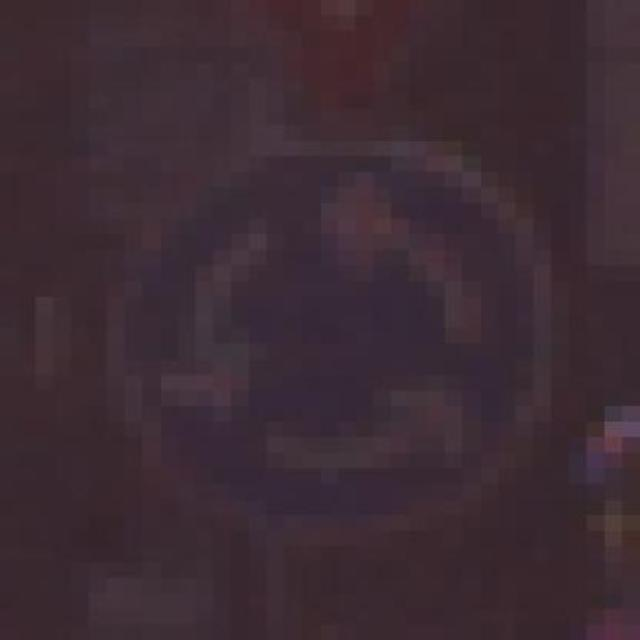Round-About: (125, 93, 569, 562)
